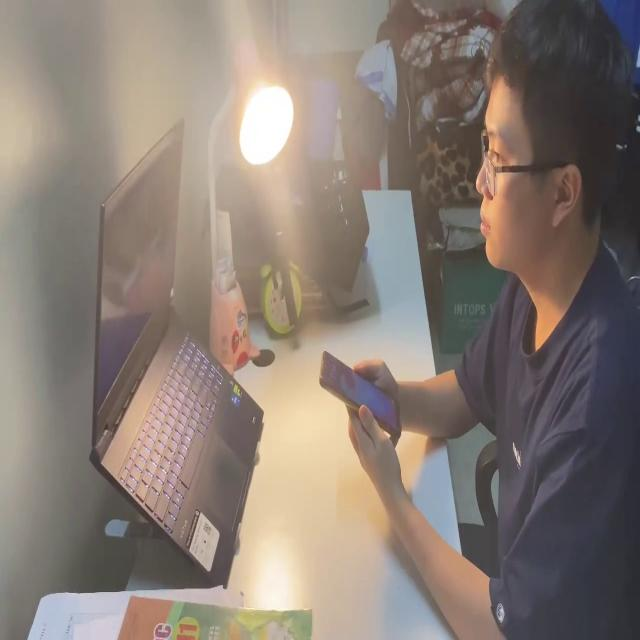book: (23, 583, 317, 640)
laptop: (84, 114, 268, 583)
phone: (316, 345, 399, 445)
student: (344, 0, 640, 640)
